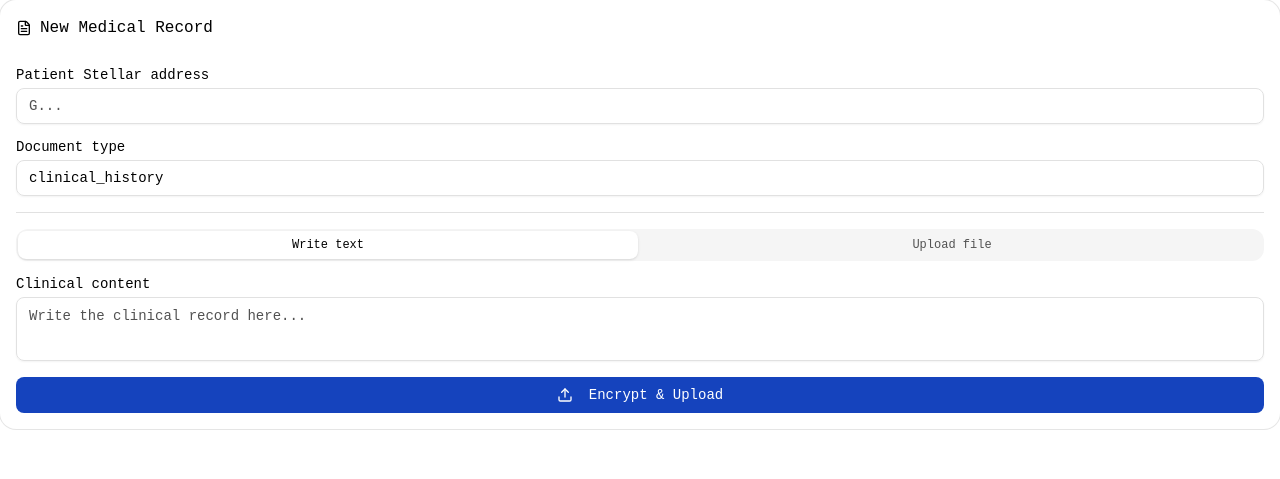
DocumentUpload › blocks submit without a patient address
Click the button "Encrypt & Upload": coordinates (640, 395) x1=16 y1=377 x2=1264 y2=413
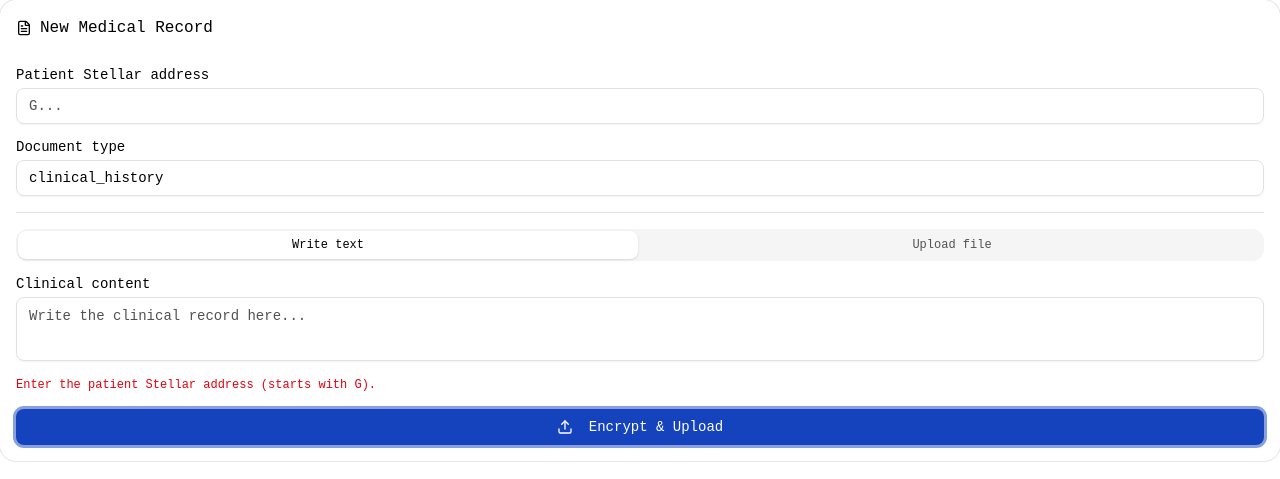
Now the text "Enter the patient Stellar address (starts with G)." is shown, box x1=16 y1=378 x2=376 y2=392
